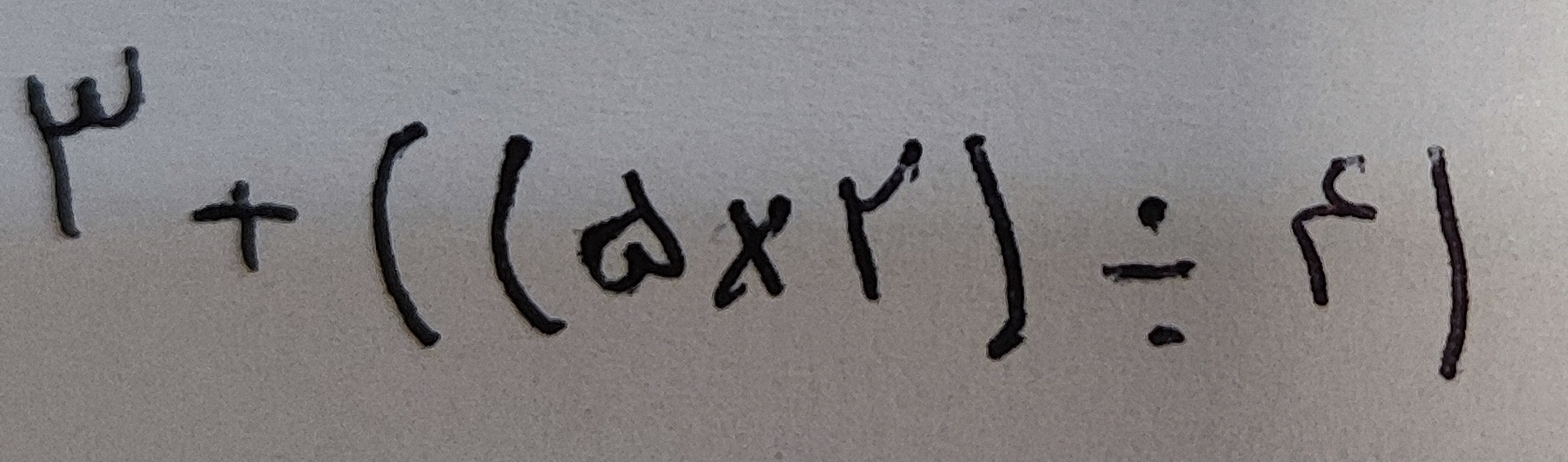character: (7, 31, 153, 256), (949, 128, 1056, 378), (1416, 135, 1517, 395), (349, 109, 450, 366), (1272, 127, 1387, 329), (482, 113, 567, 370), (821, 128, 935, 317), (578, 146, 690, 337), (1092, 180, 1213, 355), (706, 180, 801, 321), (179, 172, 301, 275)
